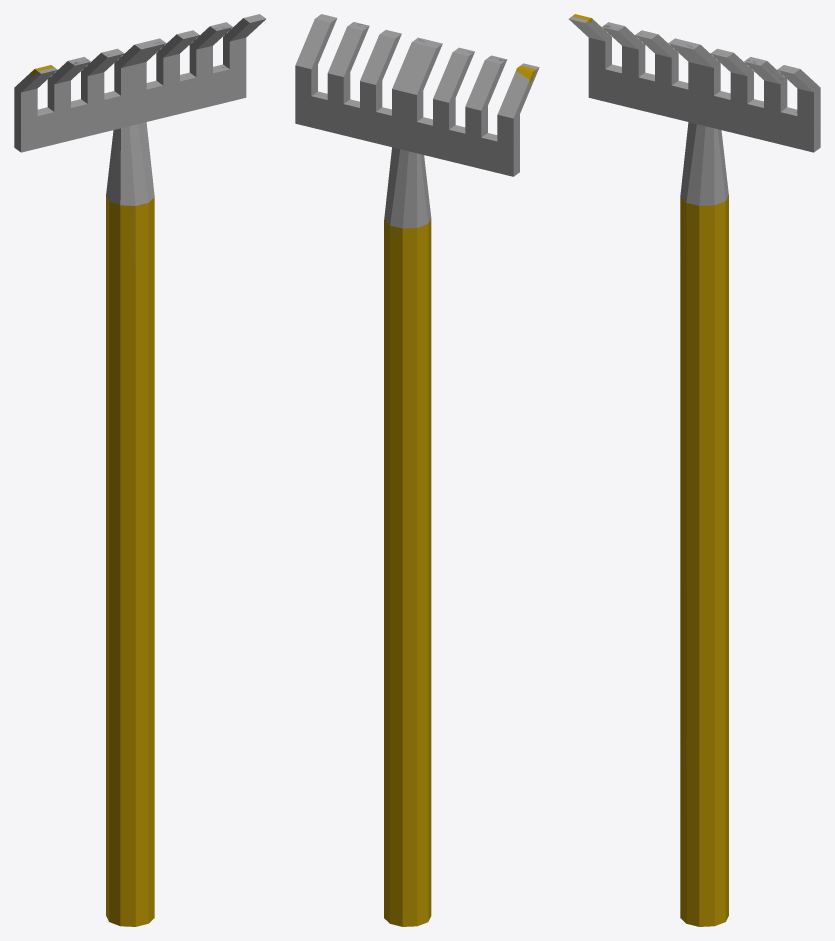
File: Rake.fbx
The picture shows the model from 3 angles, left to right: view 1: azimuth 30°, elevation 25°; view 2: azimuth 150°, elevation 25°; view 3: azimuth 330°, elevation 25°; orthographic projection. The views are drawn at different scales.
Visible parts, largest first — view 1: Rake; view 2: Rake; view 3: Rake.
Part boxes in pixels (x1=…): Rake: x1=14, y1=14, x2=265, y2=926; Rake: x1=295, y1=14, x2=539, y2=926; Rake: x1=569, y1=14, x2=820, y2=926.
Size of the model in its own units: 0.9892 by 3.72 by 0.2675.
1 material, 1 textured.
